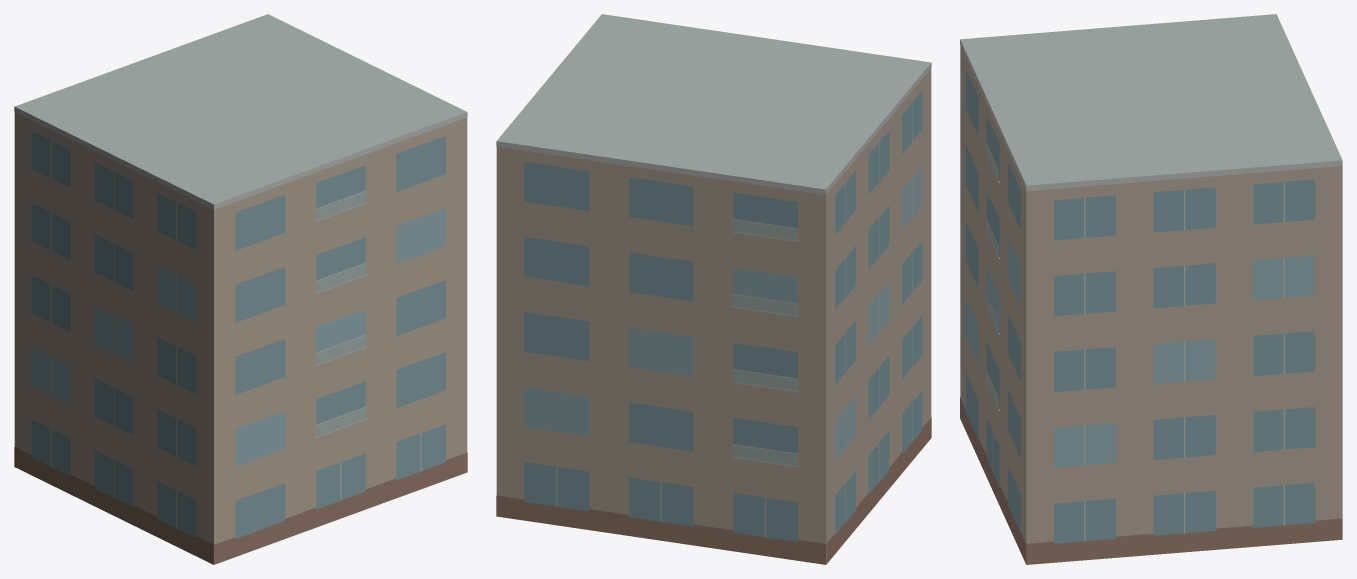
File: survey-upis-32924971.glb
3 views of the same model, side by side, from view 1: azimuth 30°, elevation 25°; view 2: azimuth 150°, elevation 25°; view 3: azimuth 270°, elevation 25° (orthographic). The views are drawn at different scales.
Visible parts, largest first — view 1: survey-upis-32924971.tmp; view 2: survey-upis-32924971.tmp; view 3: survey-upis-32924971.tmp.
Part boxes in pixels (bbox=[...]): survey-upis-32924971.tmp: bbox=[14, 14, 467, 564]; survey-upis-32924971.tmp: bbox=[496, 14, 931, 564]; survey-upis-32924971.tmp: bbox=[960, 14, 1342, 564].
Bounding box in the file's own units: 16.22 × 16.7 × 15.28.
